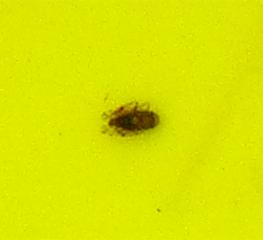Hemiptera: (100, 100, 163, 140)
